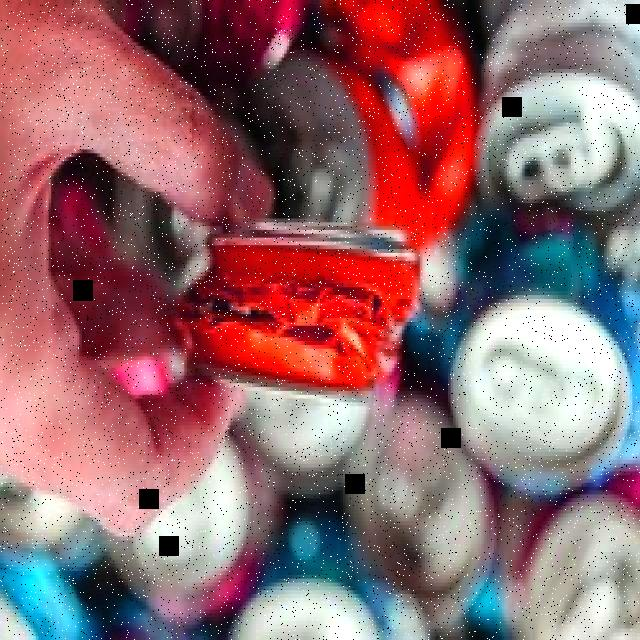can: (174, 222, 418, 406)
